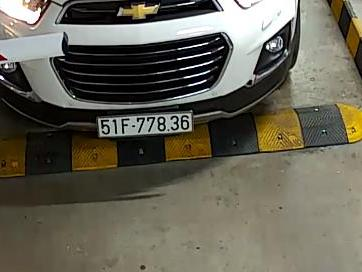car: (97, 111, 194, 137)
